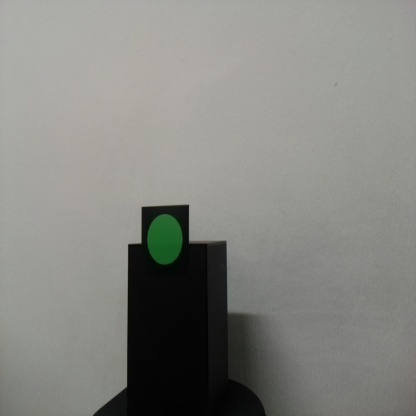id_5: (142, 206, 189, 279)
